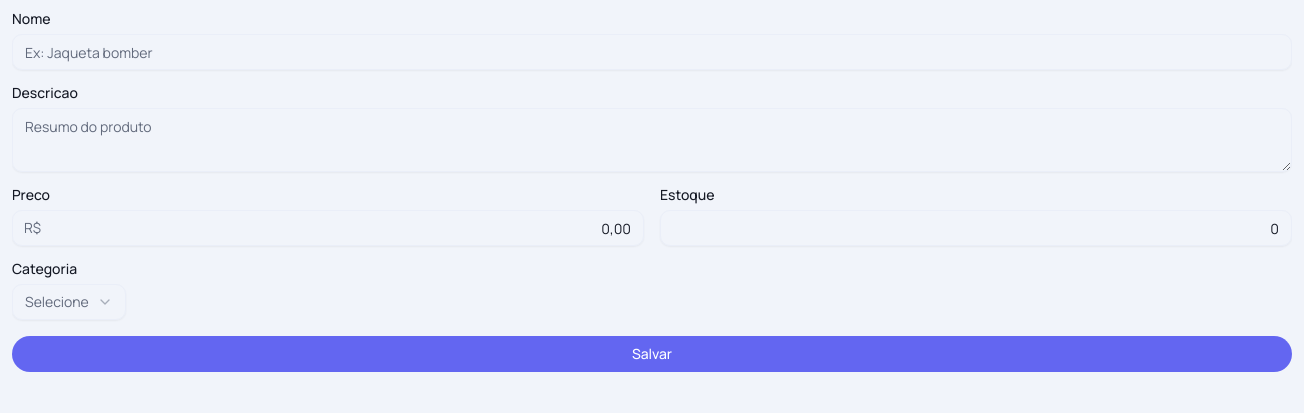
Test: ProductForm Component › Validação em tempo real › deve limpar erro quando campo é corrigido
Type "A" into the field labelled "Nome" at coordinates (652, 52), box [12,34,1292,70]
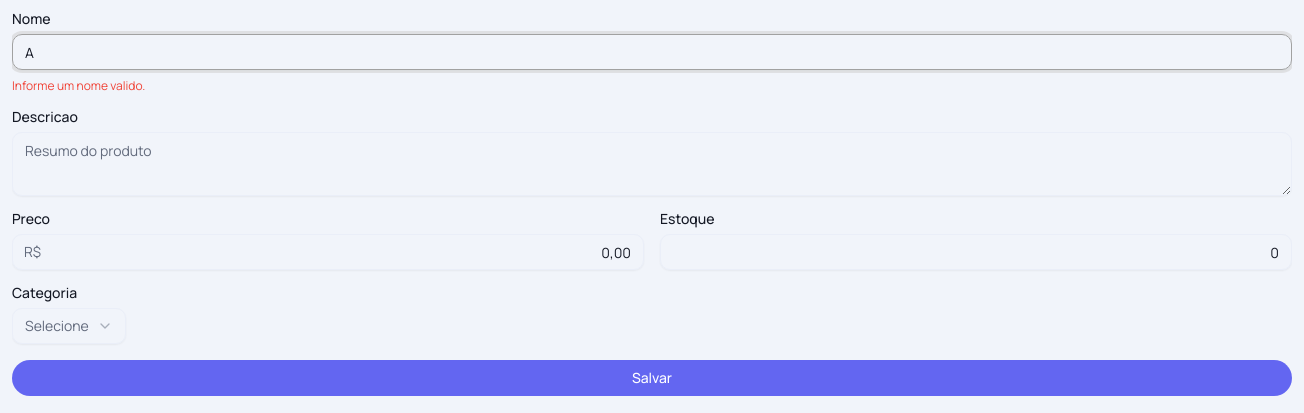
Press Tab
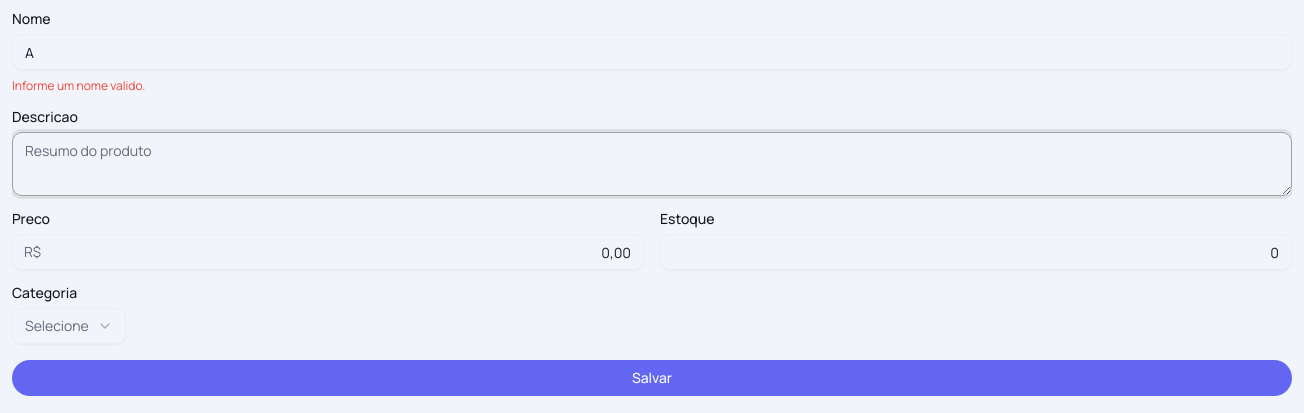
Check: the text "Informe um nome valido." is shown, box [12,77,145,94]
Replace the text in the field labelled "Nome" with "Produto Válido" at coordinates (652, 52), box [12,34,1292,70]
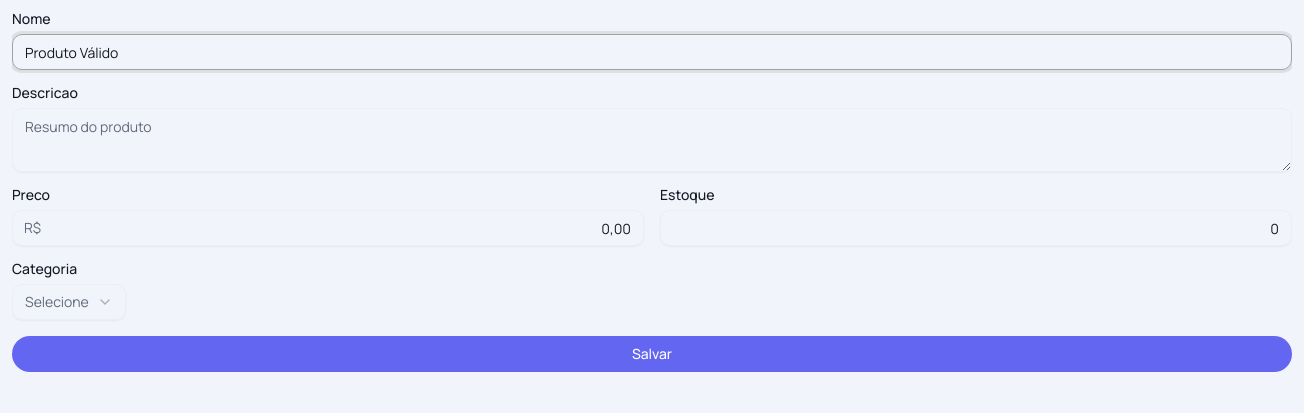
Check: the text "Informe um nome valido." is gone
